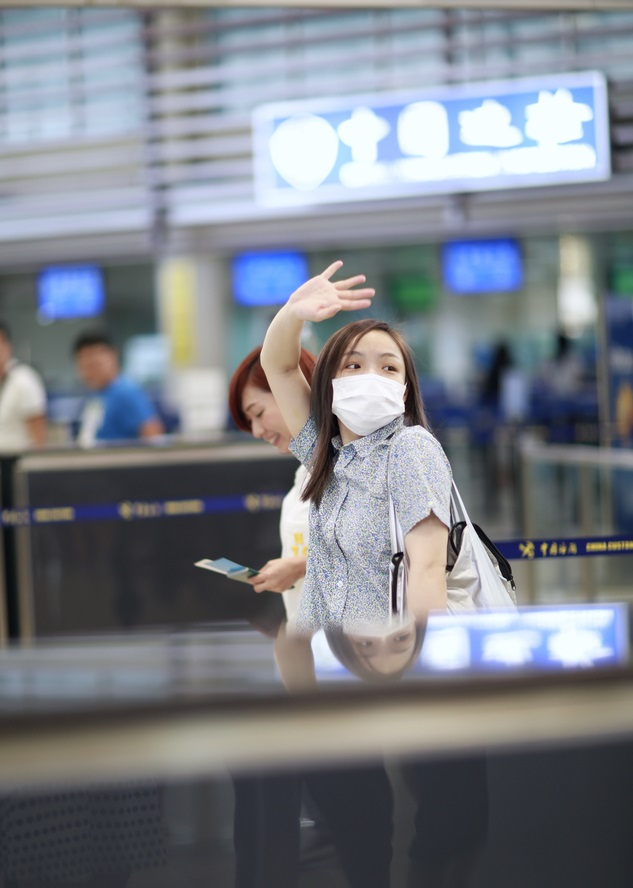face: (241, 384, 290, 453)
face_mask: (331, 337, 406, 438)
